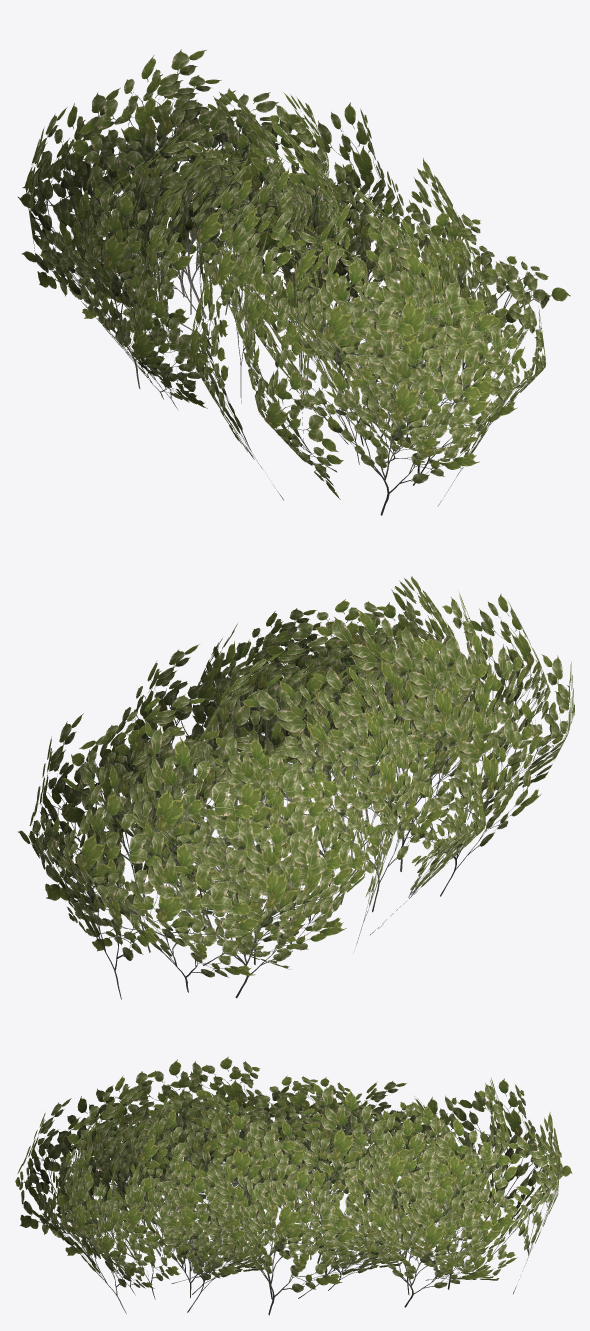
Rendered from MB_Bush_02.fbx.
3 renders of one model, top to bottom at view 1: azimuth 30°, elevation 25°; view 2: azimuth 150°, elevation 25°; view 3: azimuth 270°, elevation 25°, orthographic. The views are drawn at different scales.
Visible parts, largest first — view 1: MB_Bush_02_LOD0; view 2: MB_Bush_02_LOD0; view 3: MB_Bush_02_LOD0.
Boxes of the visible parts, x1,y1,x2,y2 form: MB_Bush_02_LOD0: (18, 49, 570, 515); MB_Bush_02_LOD0: (18, 576, 574, 999); MB_Bush_02_LOD0: (15, 1056, 572, 1315).
Size of what is drawn, in the model's own units: 168 by 147 by 291.
